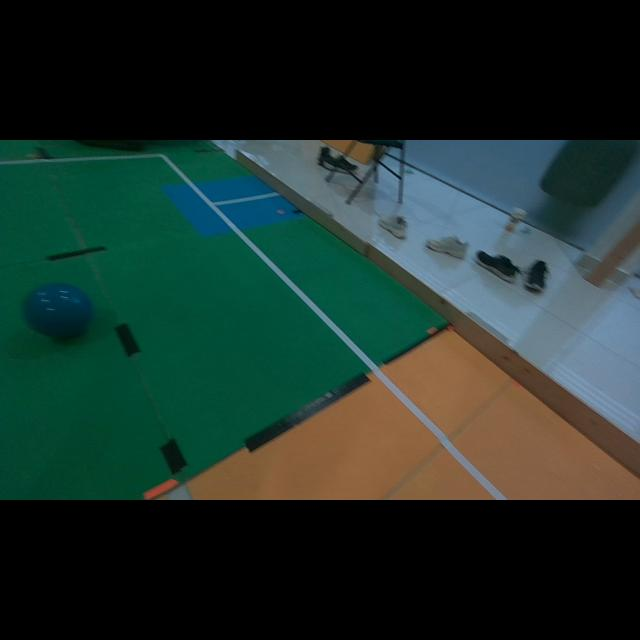B: (26, 284, 92, 339)
